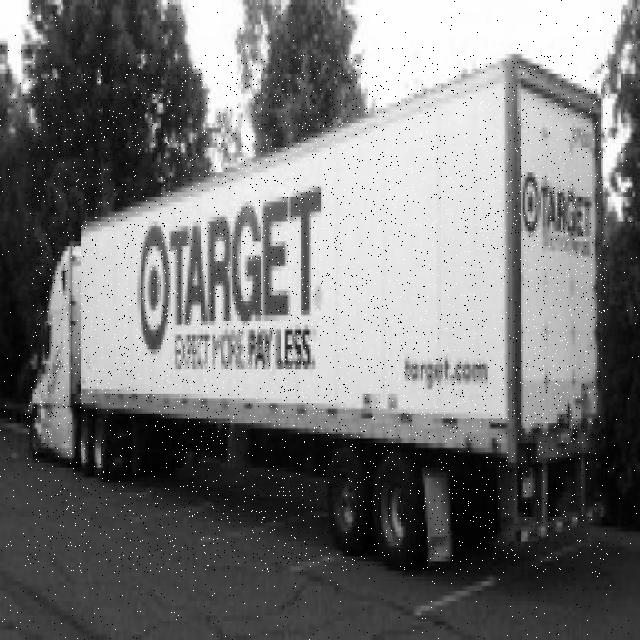Tractor Trailer: (27, 55, 607, 573)
